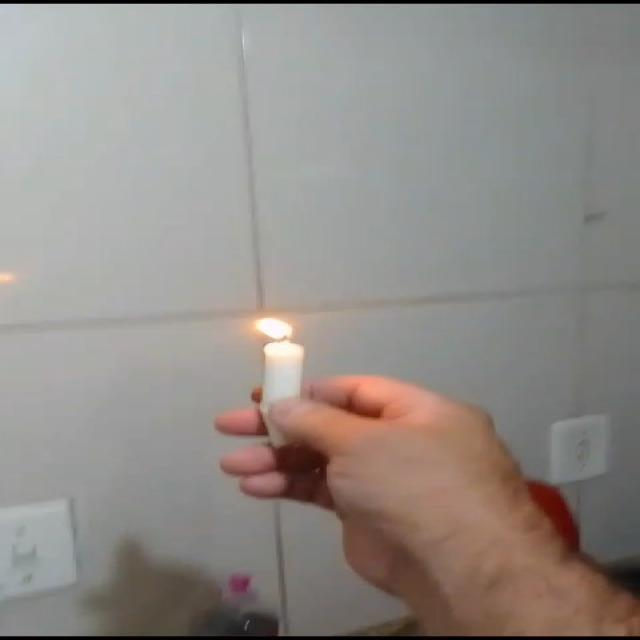fire: (252, 313, 297, 344)
